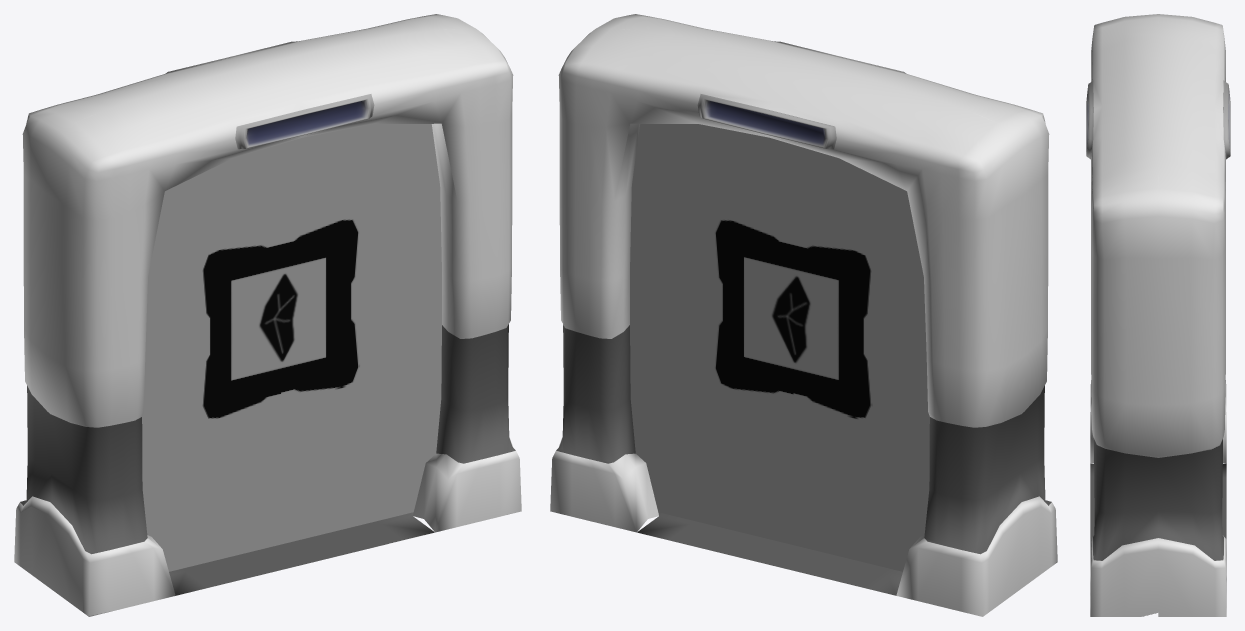
Rendered from puerta2.dae.
3 renders of one model, left to right at view 1: azimuth 30°, elevation 25°; view 2: azimuth 150°, elevation 25°; view 3: azimuth 270°, elevation 25°, orthographic. The views are drawn at different scales.
Parts seen in each view (by area): view 1: Marco, Puerta; view 2: Marco, Puerta; view 3: Marco.
Boxes of the visible parts, x1,y1,x2,y2 form: Marco: (14, 14, 521, 616); Puerta: (142, 124, 441, 571); Marco: (550, 14, 1057, 616); Puerta: (630, 124, 929, 571); Marco: (1086, 14, 1230, 616).
Size of the model in its own units: 10.28 by 3.18 by 10.47.
2 materials, 2 textured.
